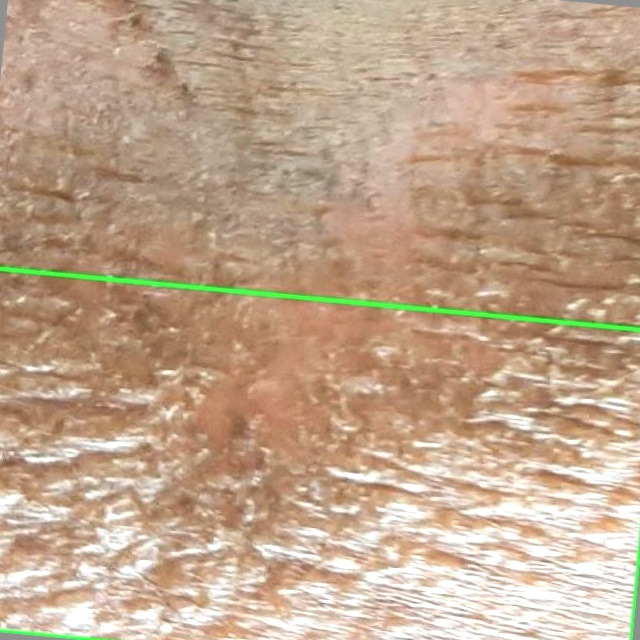Seborrheic Dermatitis: (0, 268, 639, 639)
